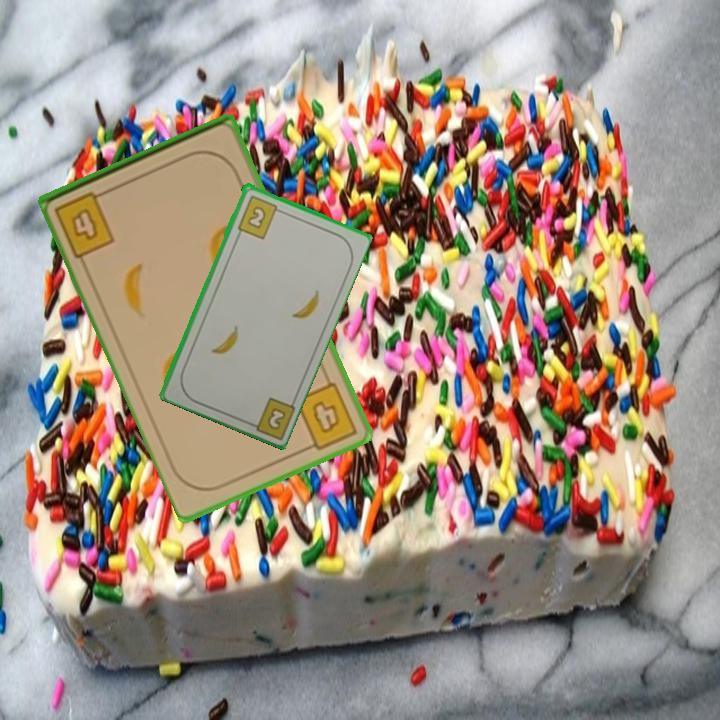2b: (233, 191, 285, 241), (242, 393, 297, 440)
4b: (292, 378, 360, 455), (51, 186, 118, 260)
